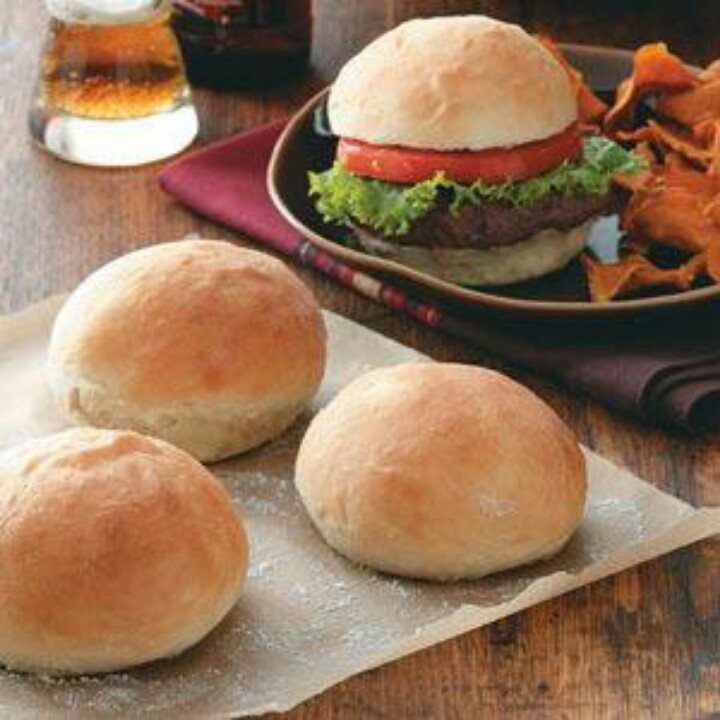hamburger_buns: (317, 11, 609, 273), (60, 233, 355, 473), (303, 346, 578, 586)
